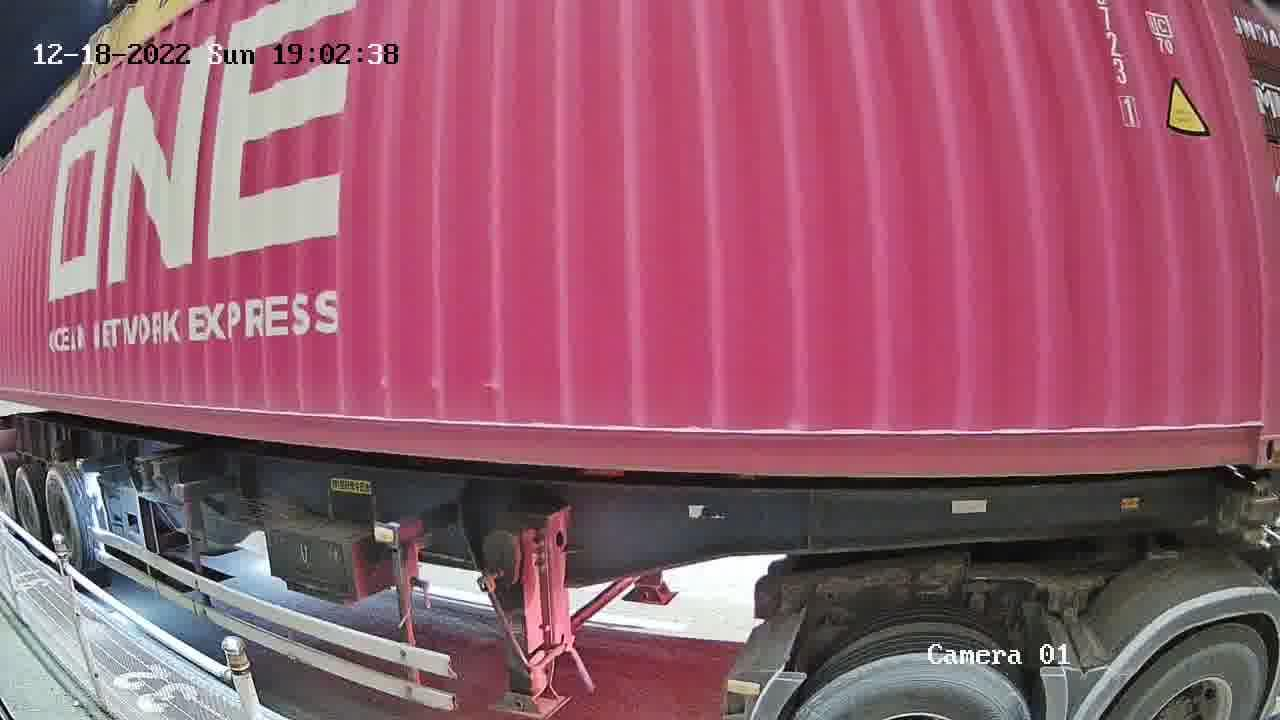Cone: (1233, 478, 1279, 553)
Hole_R: (1207, 393, 1279, 465)
Tire: (792, 651, 1028, 719), (1112, 626, 1266, 712)
